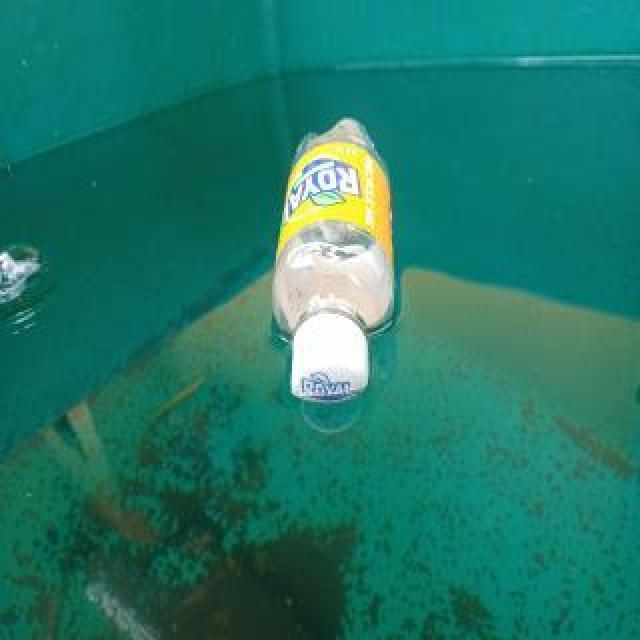bottle: (272, 115, 396, 407)
